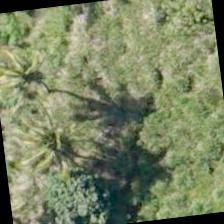Kelapa_Sawit: (0, 97, 100, 198), (0, 21, 69, 120)
